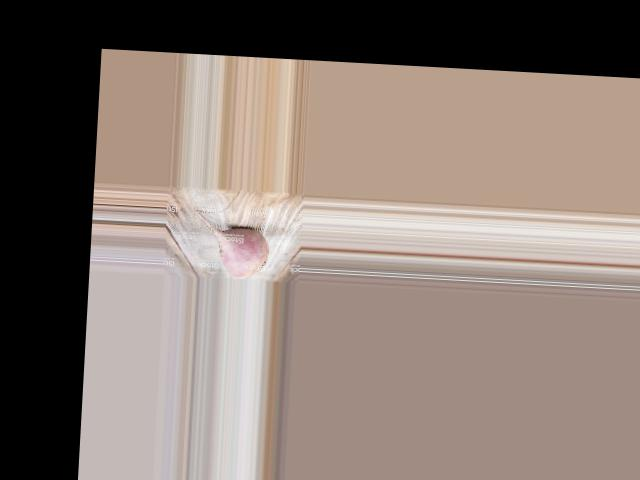beet: (191, 210, 270, 279)
